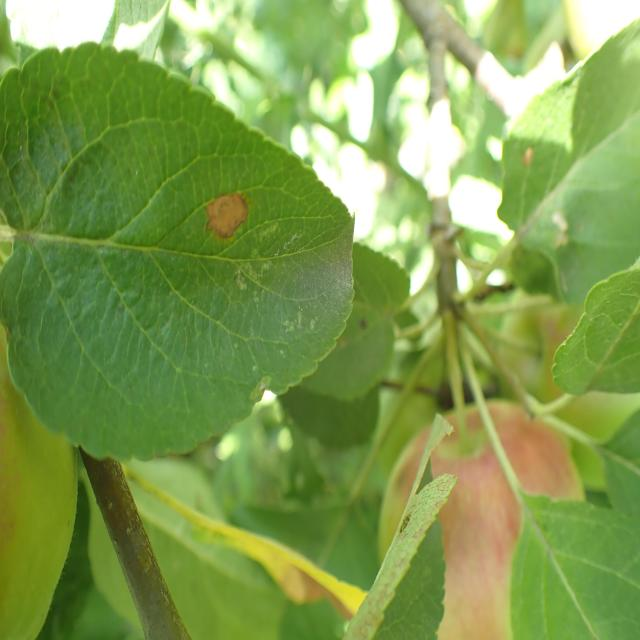Black Rot: (188, 168, 264, 259)
